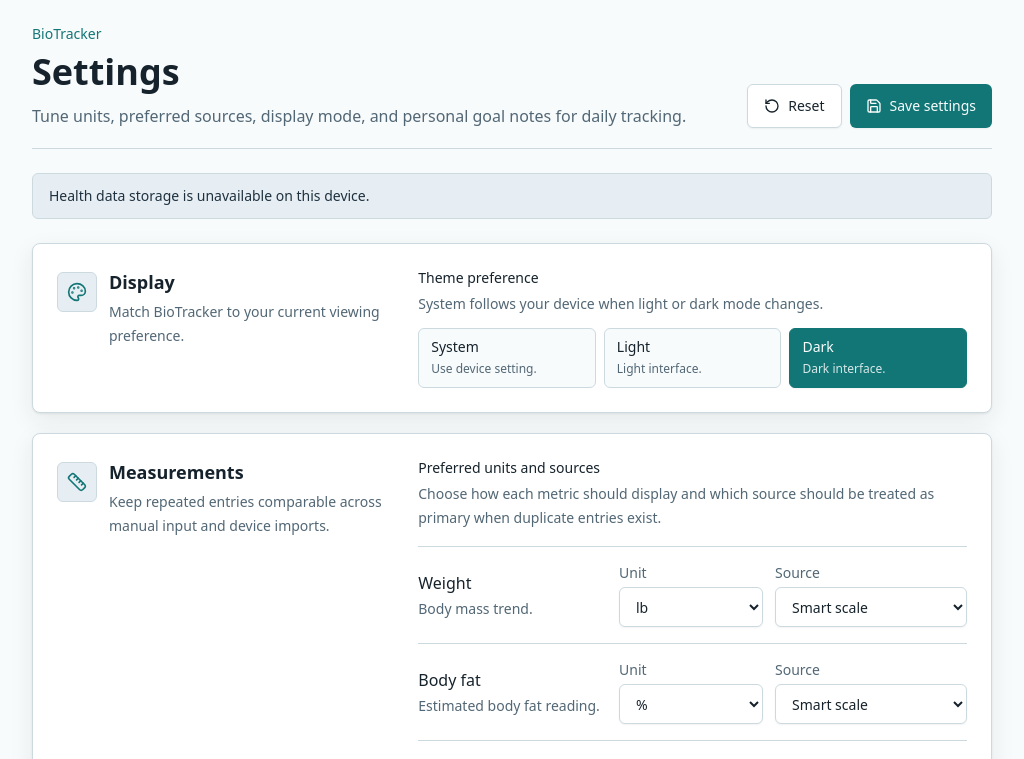
Test: settings route › resets persisted settings to defaults and updates the form
Click the button "Reset".
click(794, 106)  # box [747, 84, 842, 128]
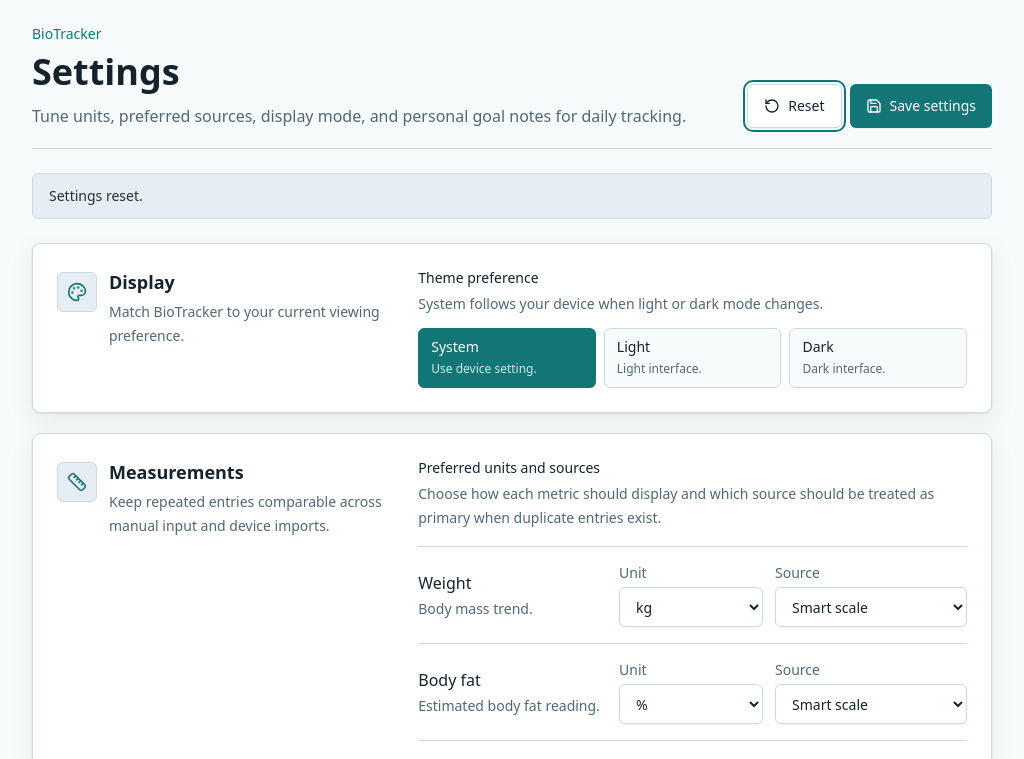
Result: the dropdown with id "weight-unit" shows "kg" at [619, 587, 763, 627]
Result: the message reads "Settings reset." at [49, 186, 143, 205]
